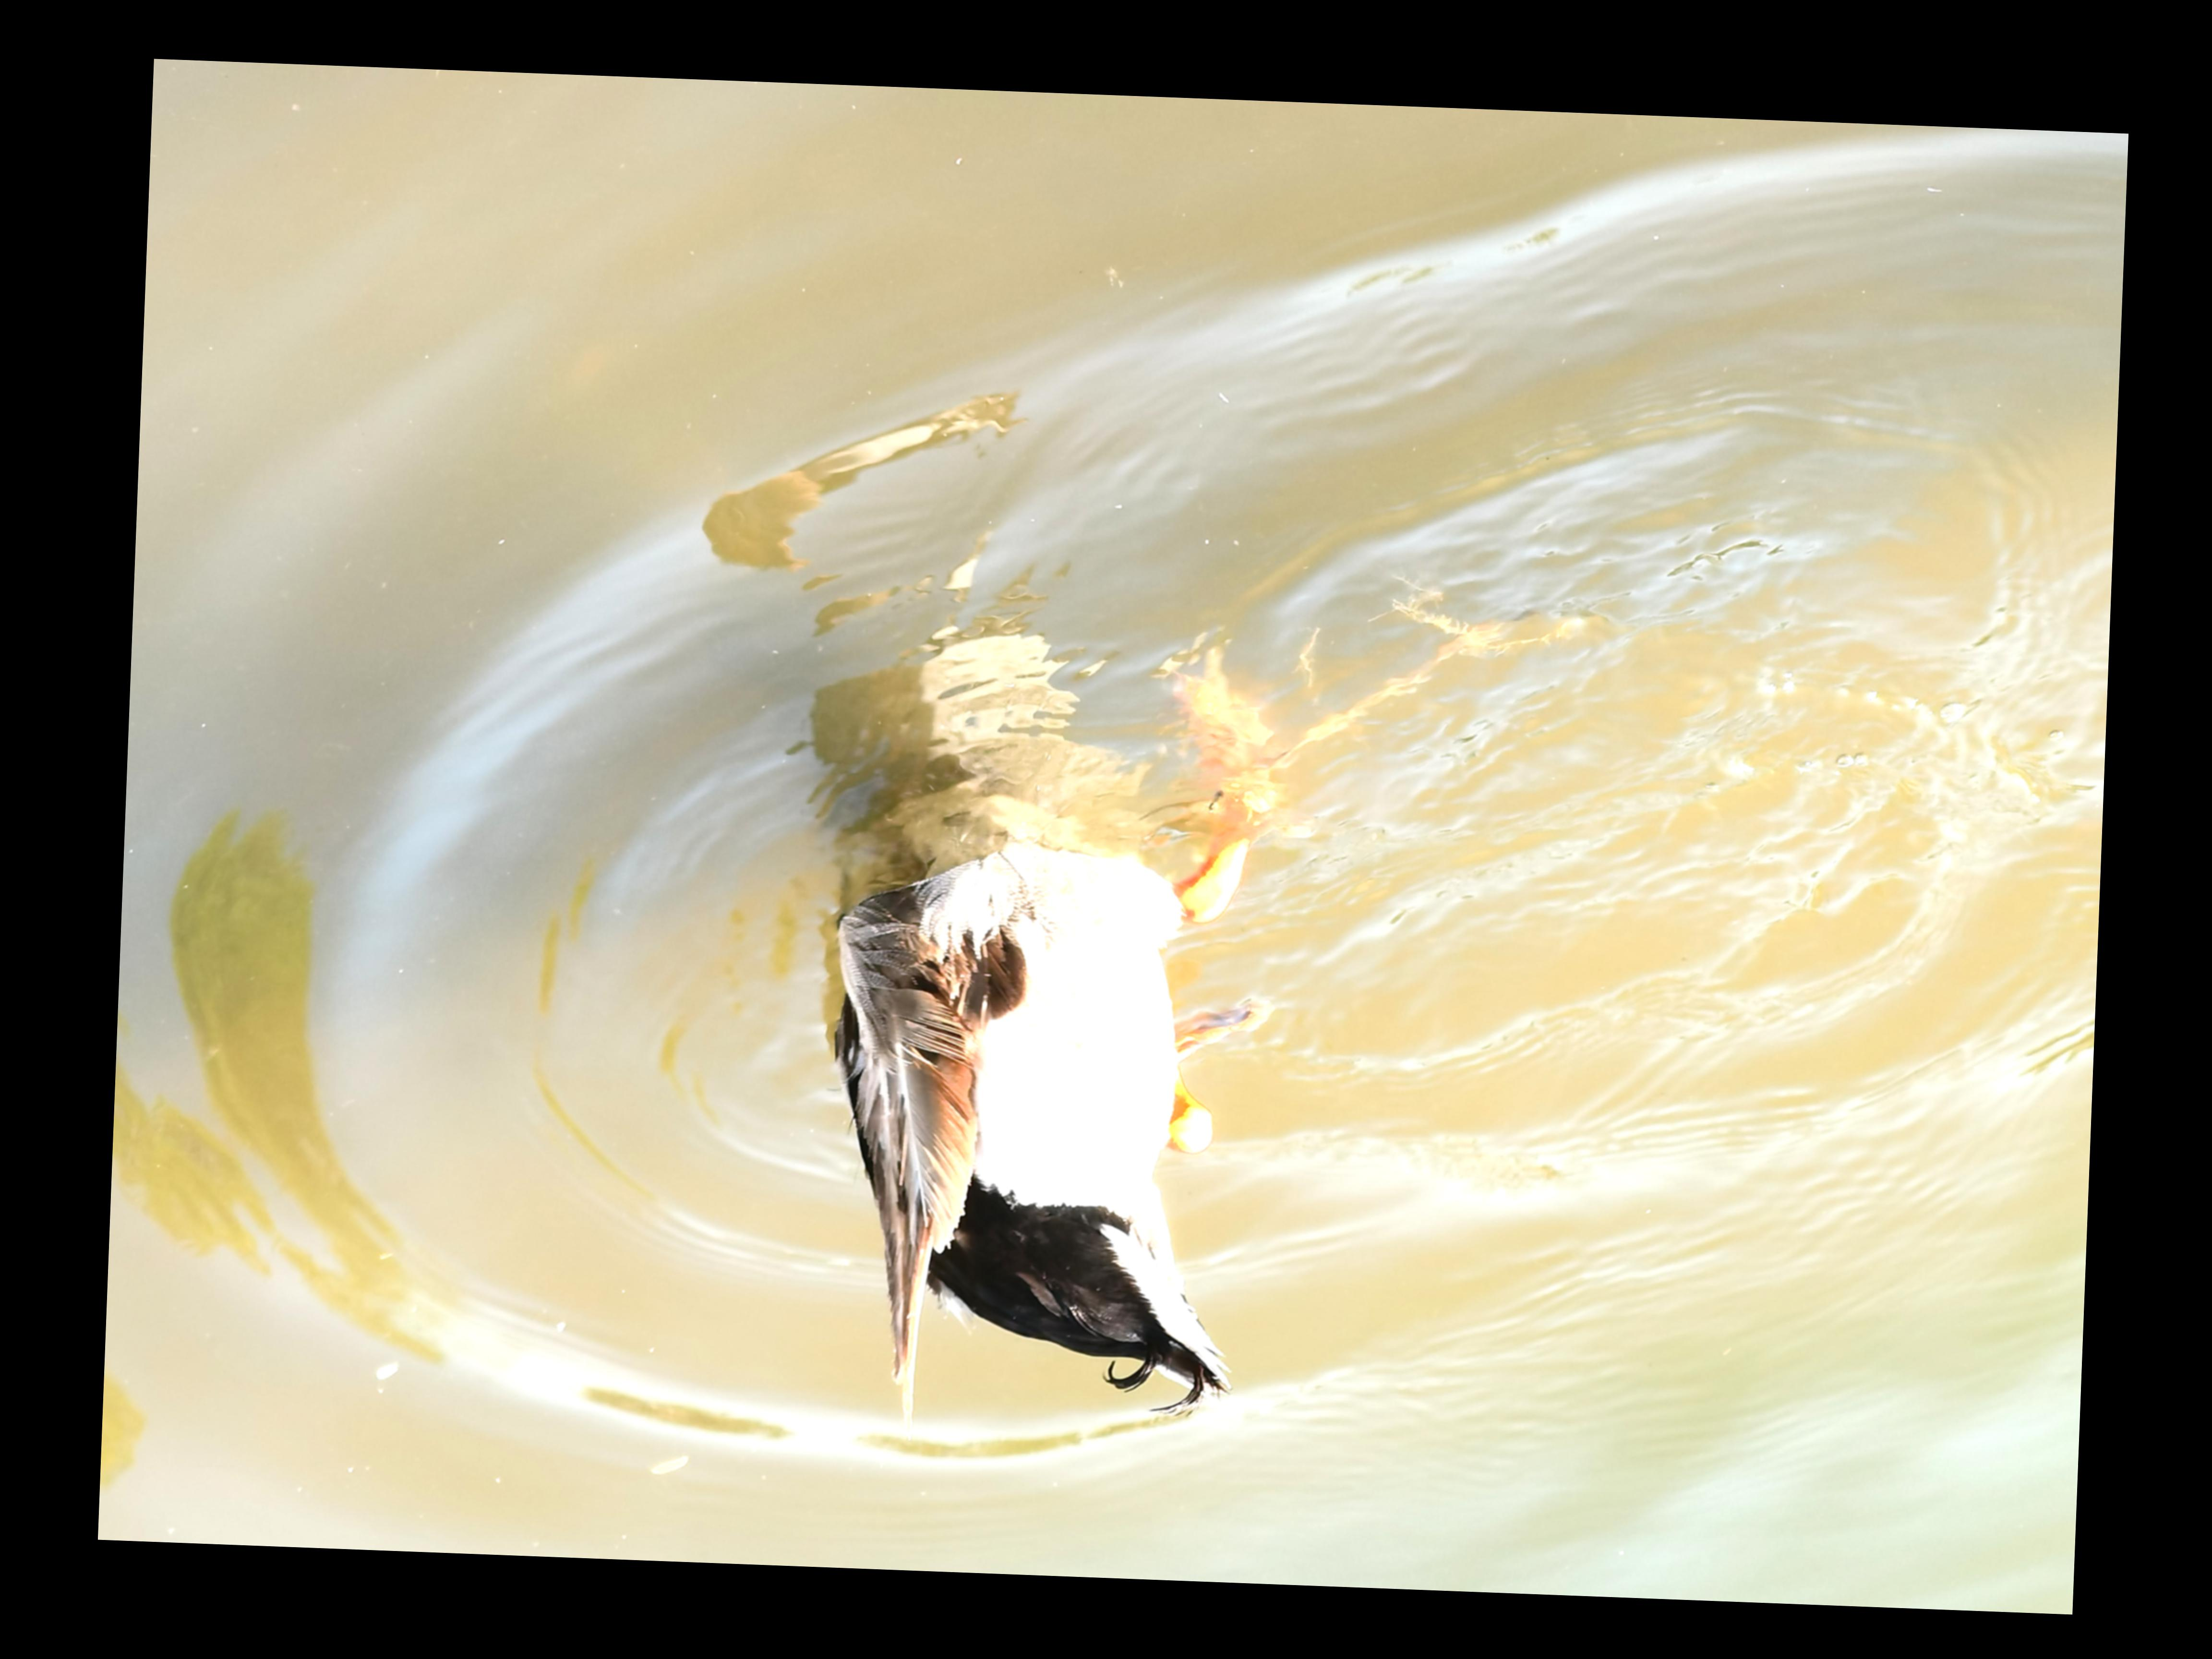duck: (796, 645, 1310, 1441)
